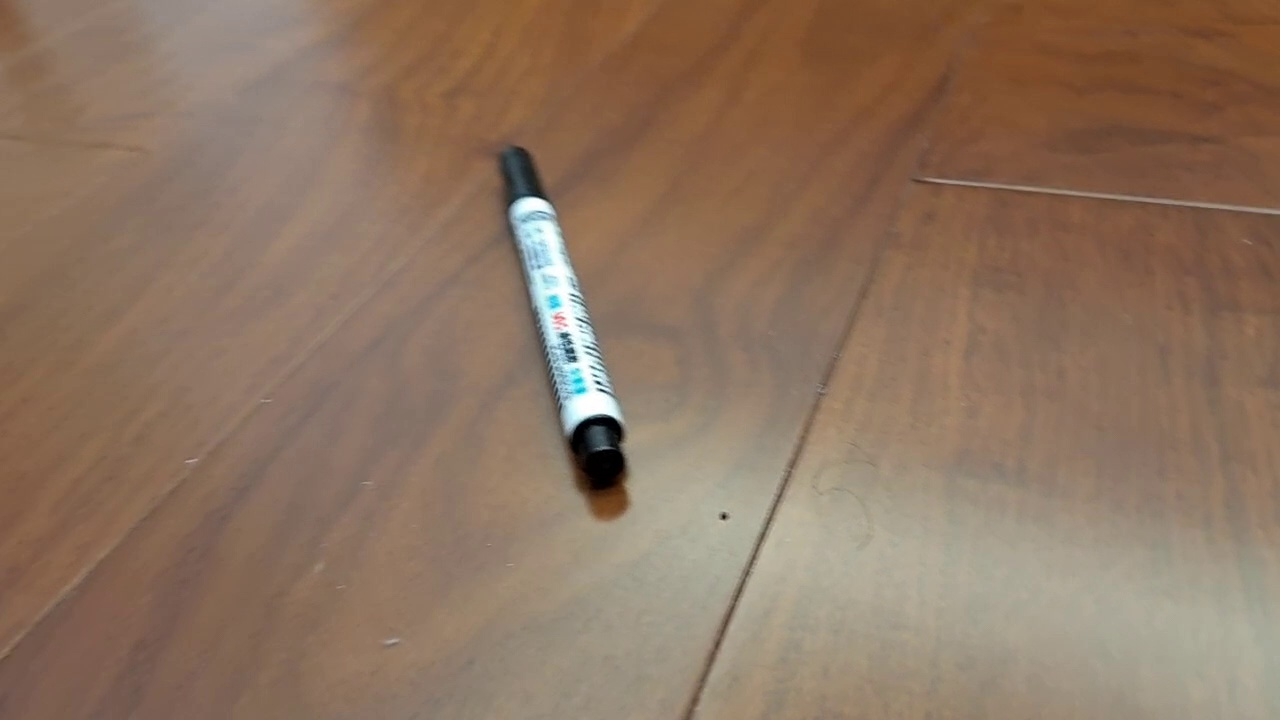pen: (496, 144, 629, 490)
